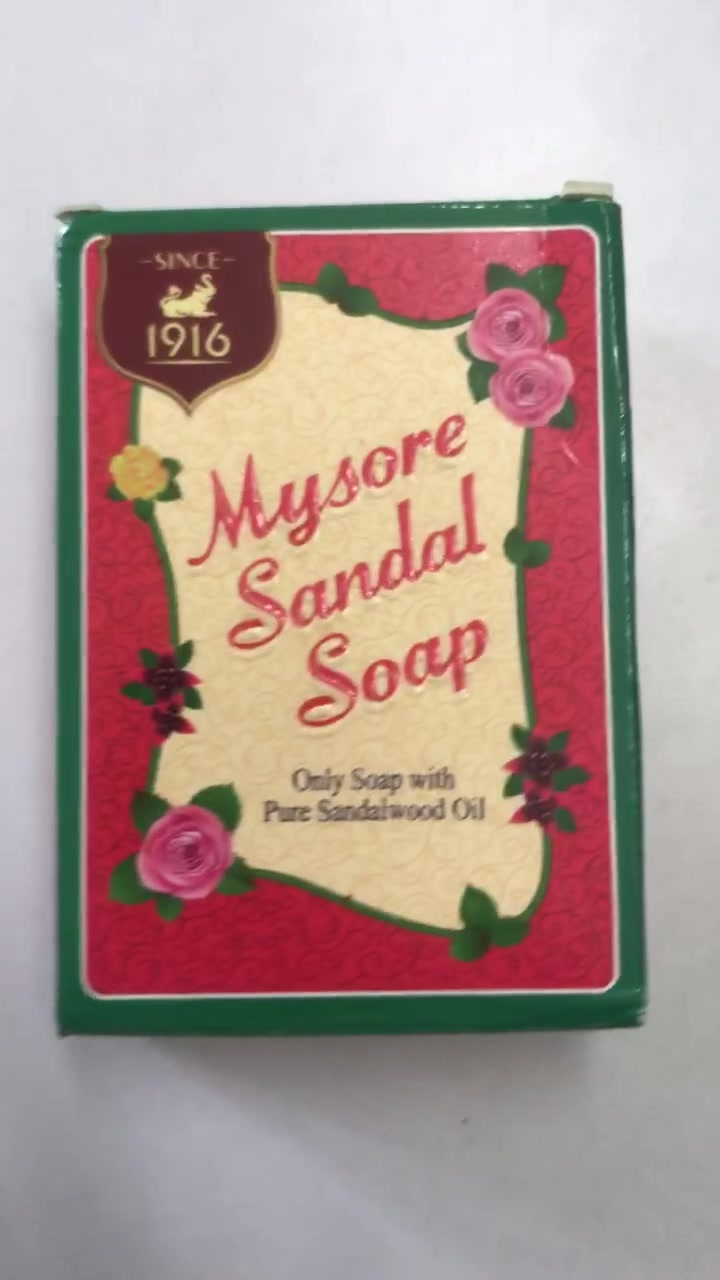mysore sandal soap: (55, 213, 639, 1024)
